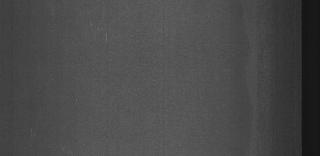silk spot: (71, 14, 127, 48)
